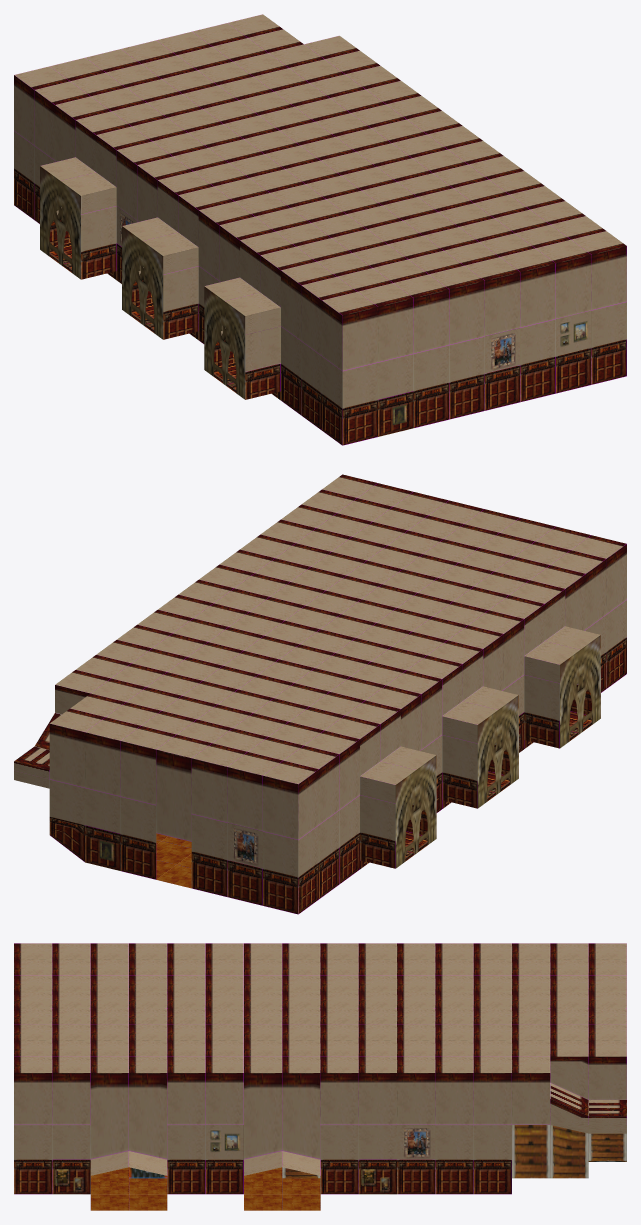
The model's file is dataRoom5.obj.
3 views of the same model, one above another, from view 1: azimuth 30°, elevation 25°; view 2: azimuth 150°, elevation 25°; view 3: azimuth 270°, elevation 25° (orthographic). The views are drawn at different scales.
Parts seen in each view (by area): view 1: Texture_222_mesh_.005; view 2: Texture_222_mesh_.005; view 3: Texture_222_mesh_.005.
Part boxes in pixels (bbox=[...]): Texture_222_mesh_.005: bbox=[14, 14, 626, 445]; Texture_222_mesh_.005: bbox=[14, 474, 626, 914]; Texture_222_mesh_.005: bbox=[14, 943, 626, 1210].
Bounding box in the file's own units: 10.24 × 3.58 × 16.38.
